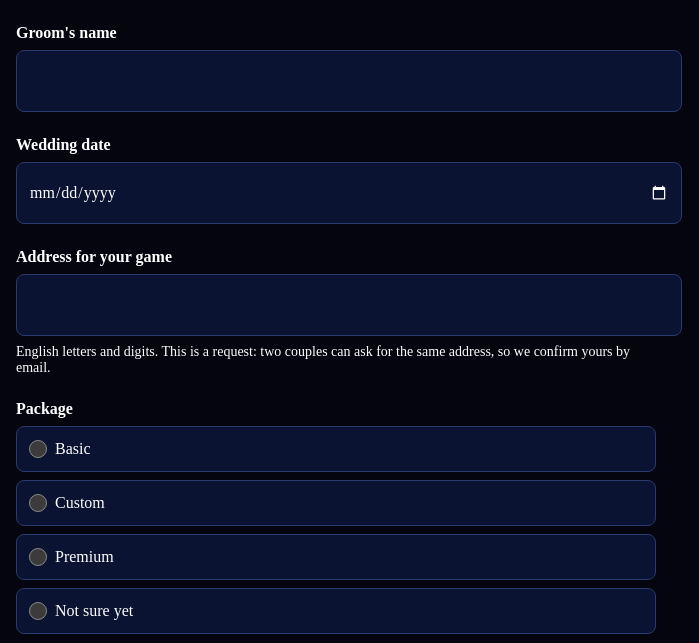
Scenario: OrderPage (component): address field › test_slug_status_live: an empty address shows nothing until it is checked
(page scrolled)
Type "DanAndShelly" into the field labelled "Address for your game". click: (349, 305)
box: top-left (16, 274), bottom-right (682, 336)
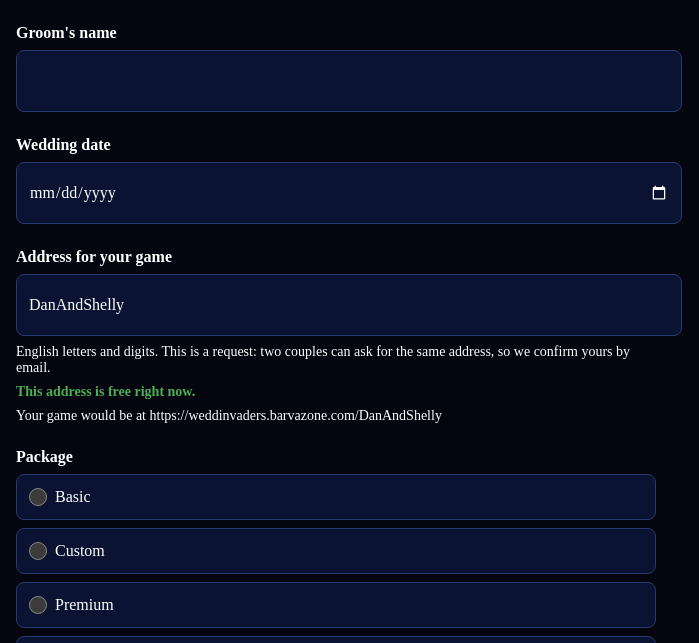
Clear the field labelled "Address for your game". click: (349, 305)
box: top-left (16, 274), bottom-right (682, 336)
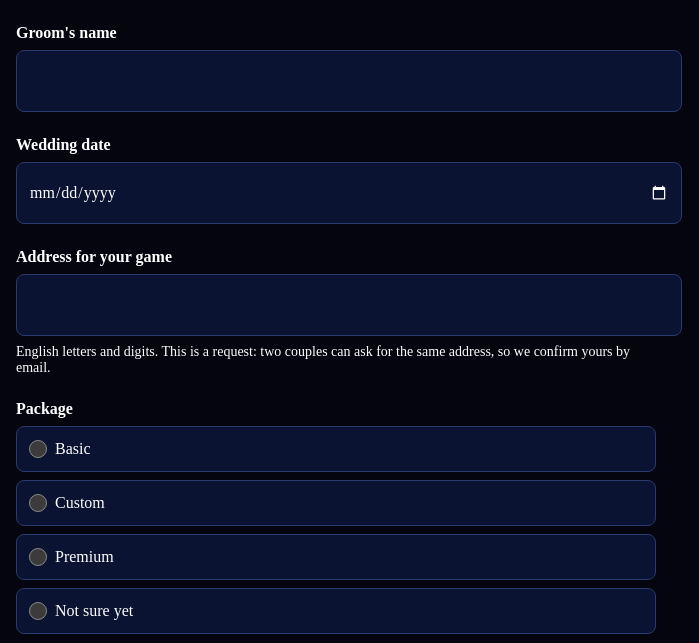
Check: the message with test id "order-slug-status" is gone
Check: the text with test id "order-slug-preview" is gone
